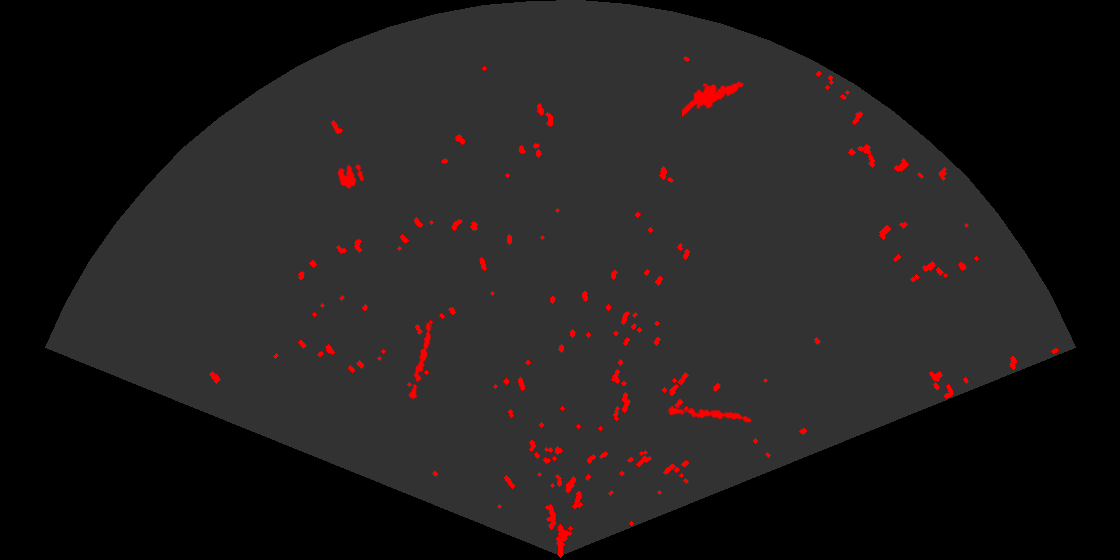ball: (336, 162, 365, 190)
chain: (407, 320, 433, 404), (667, 404, 754, 424)
frogman: (682, 80, 745, 119)
